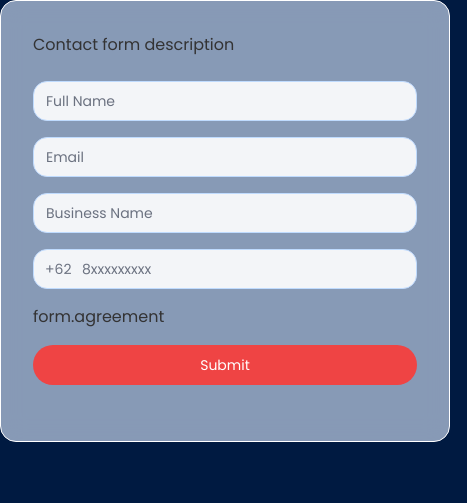
it: ContactForm › handles unexpected errors during form submission
This screenshot has width=467, height=503.
// Fill in form fields with valid data
In the field with placeholder "Full Name": (225, 101) [33,81,417,121], type "John Doe"
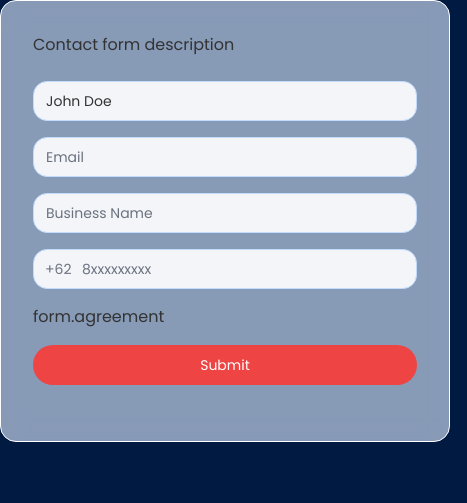
In the field with placeholder "Email": (225, 157) [33,137,417,177], type "john@example.com"
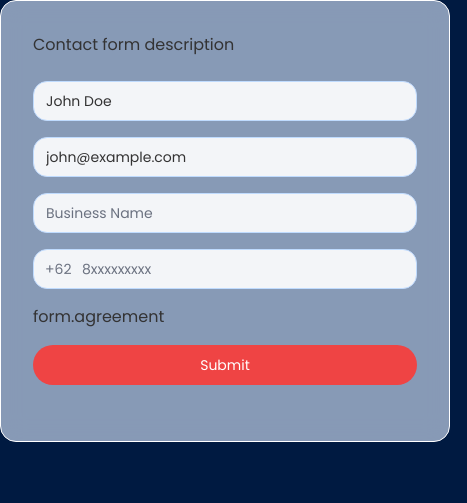
In the field with placeholder "Business Name": (225, 213) [33,193,417,233], type "ACME Corp"
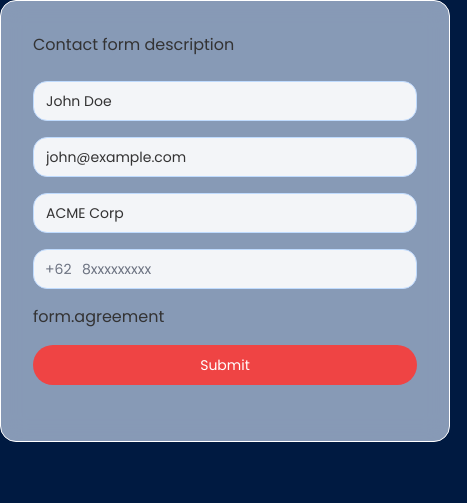
In the field with placeholder "8xxxxxxxxx": (225, 269) [33,249,417,289], type "81234567890"
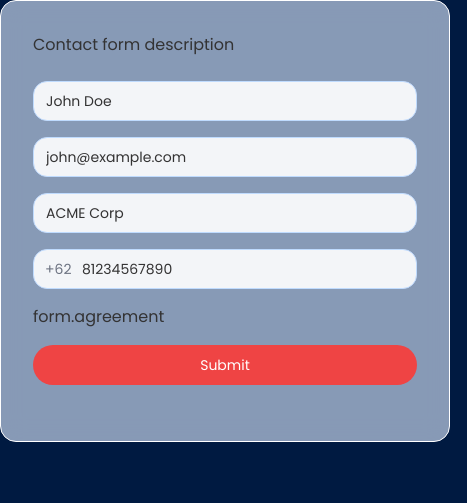
// Submit the form
Click the button "Submit": (225, 365) [33,345,417,385]
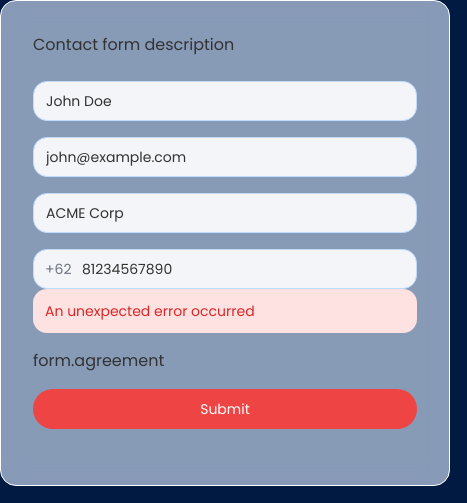
Expected: the text "An unexpected error occurred" is shown, [33,289,417,333]
